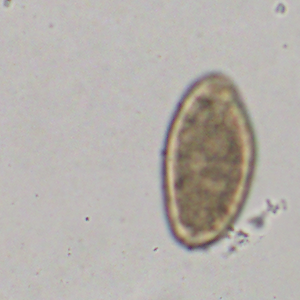Fasciola_hepatica_egg: (160, 69, 260, 252)
